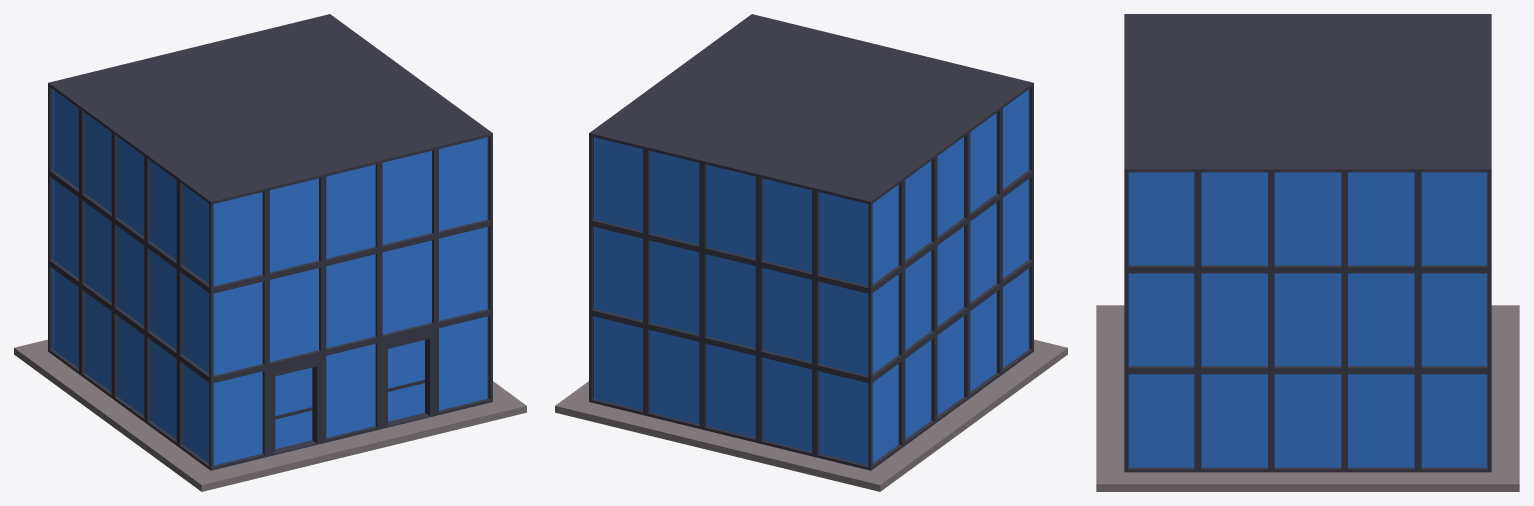
File: building_1x1_7_g.glb
3 views of the same model, side by side, from view 1: azimuth 30°, elevation 25°; view 2: azimuth 150°, elevation 25°; view 3: azimuth 270°, elevation 25° (orthographic). The views are drawn at different scales.
Parts seen in each view (by area): view 1: FirstFloor; view 2: FirstFloor; view 3: FirstFloor.
Part boxes in pixels (x1,y1,x2,y2): FirstFloor: (14, 14, 526, 491); FirstFloor: (555, 14, 1067, 491); FirstFloor: (1096, 14, 1519, 491).
Bounding box in the file's own units: 2 × 1.62 × 2.
